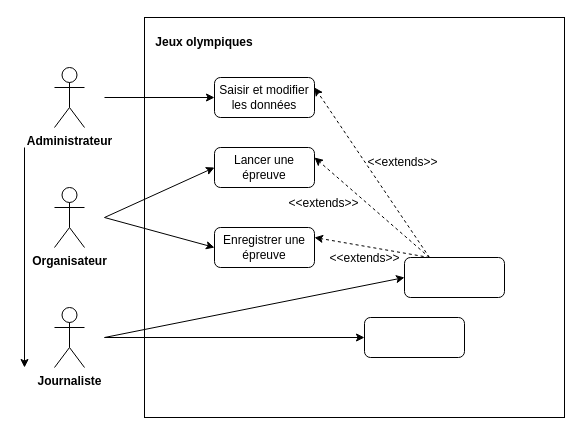
Image size: 582x435. Some labels were removed from this diagram. The centre of each missing label's shape, as x and y in pixels:
Afficher les résultats: point 454,277
Consulter les données: point 414,337
